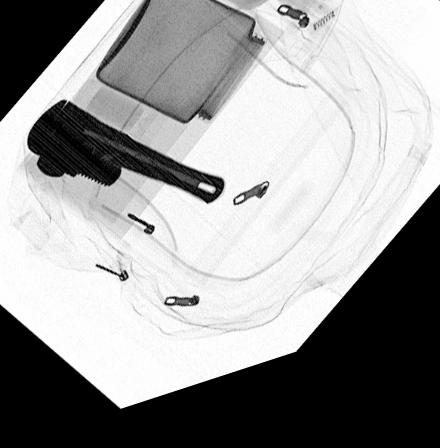Wrench: (24, 104, 226, 220)
